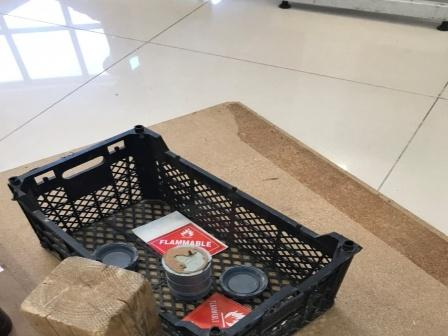flammable: (182, 295, 251, 331), (146, 225, 223, 256)
